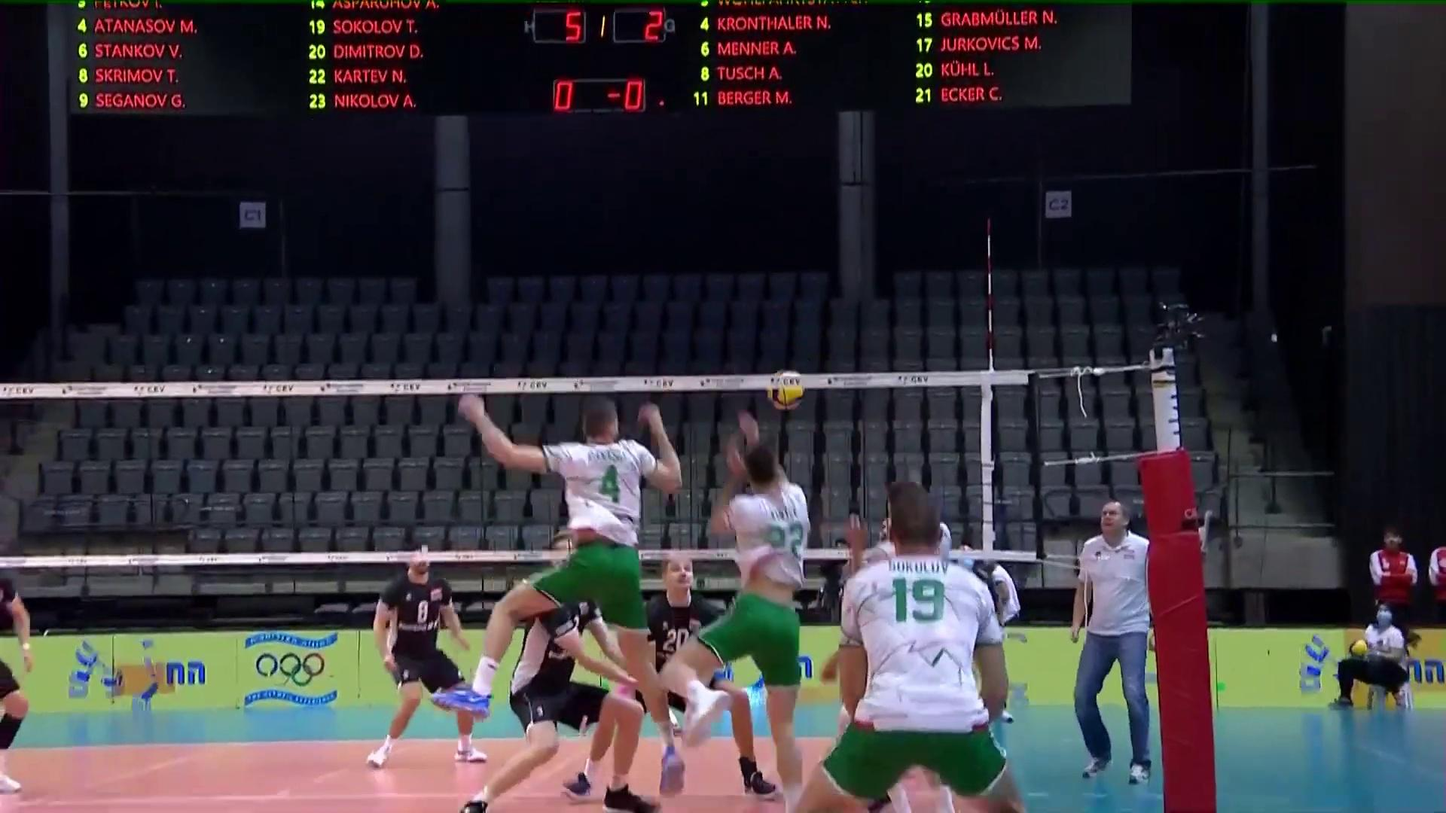ball: (770, 385, 807, 412)
